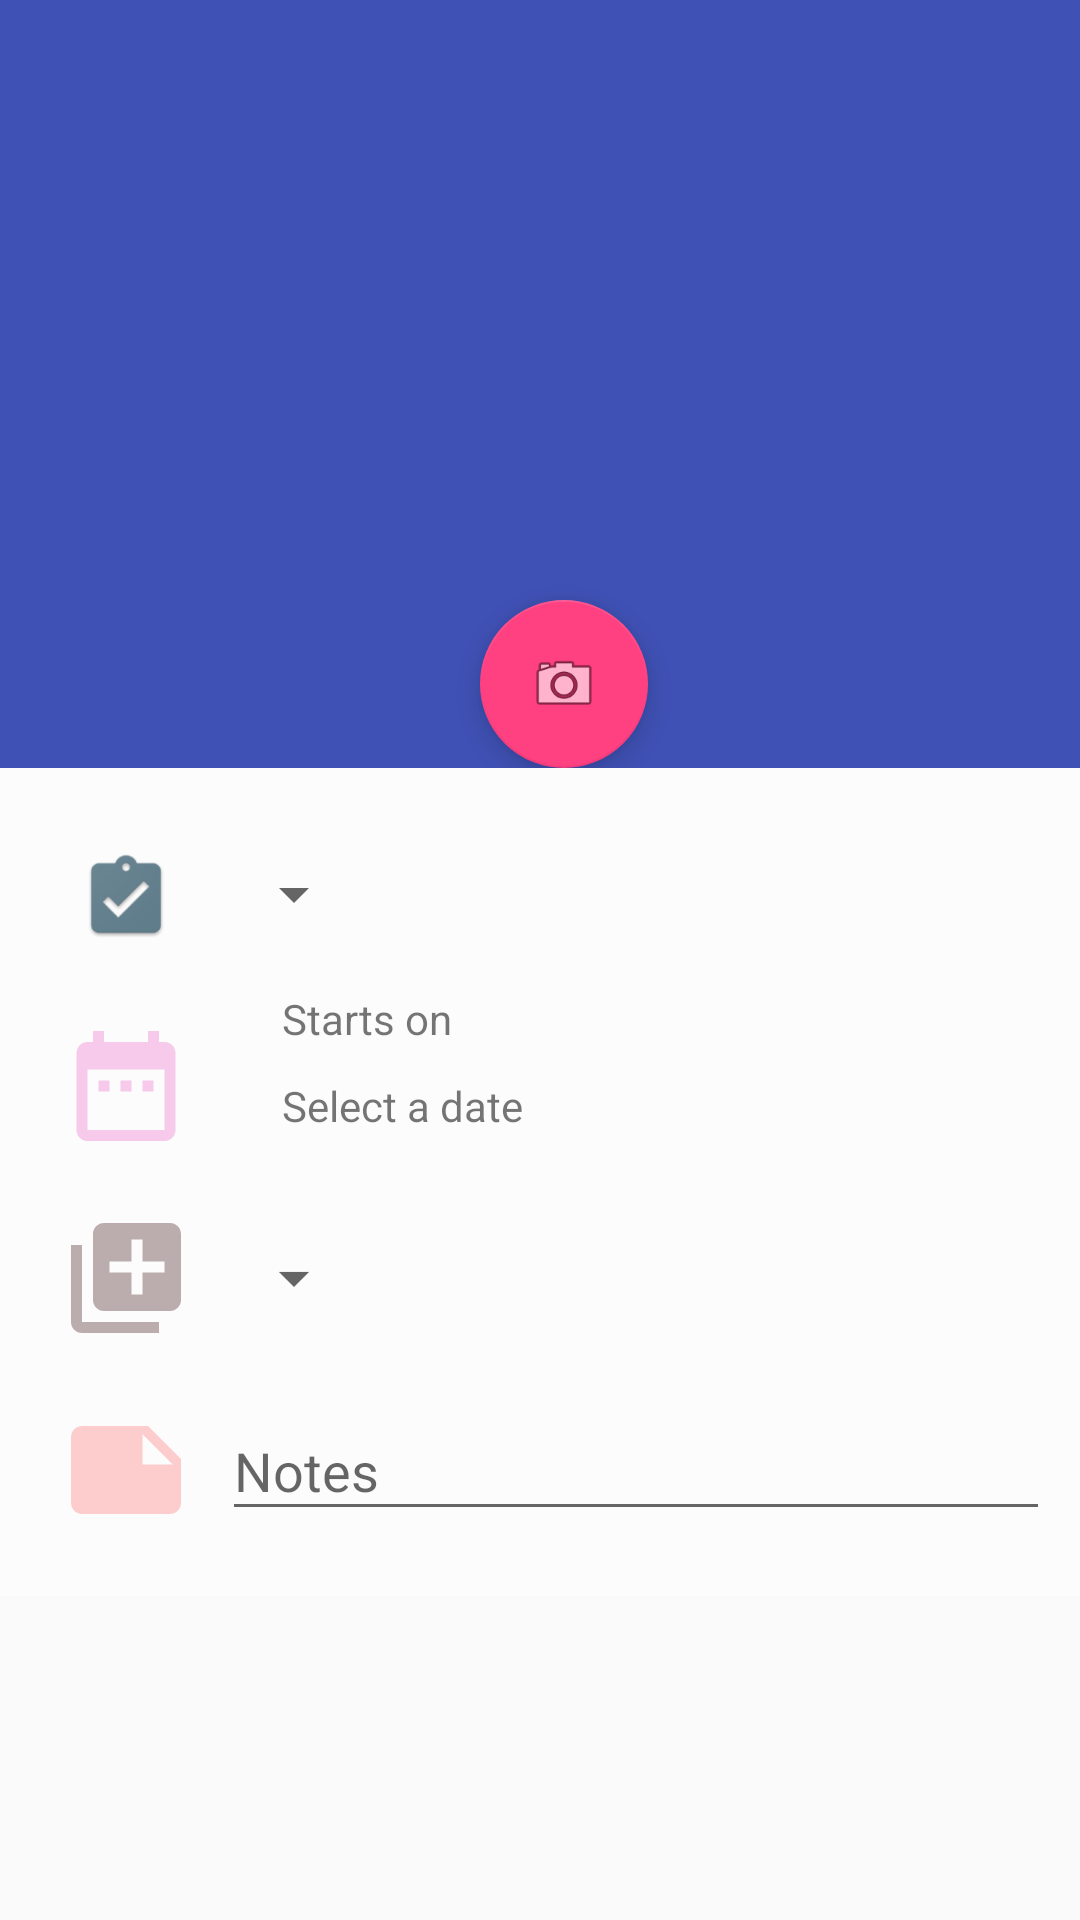

Icon bounding boxes for this 1080x1920 phone screenshot, format region(x1, y1, x2, y2):
camera: region(480, 600, 648, 768)
date range: region(76, 1031, 176, 1141)
list done: region(90, 855, 162, 936)
queue: region(71, 1223, 181, 1333)
